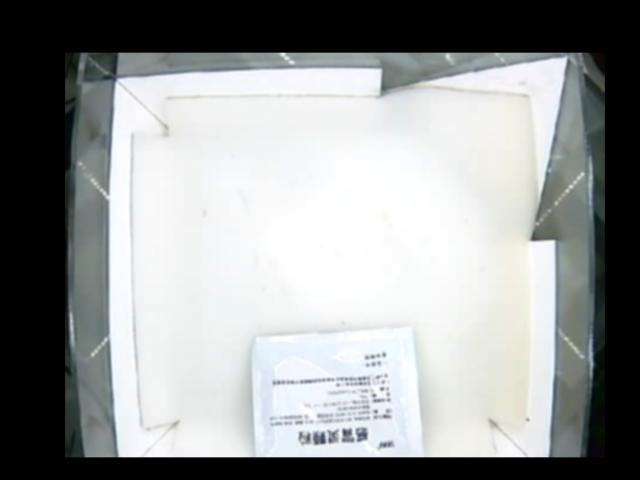Medicine: (249, 324, 421, 457)
